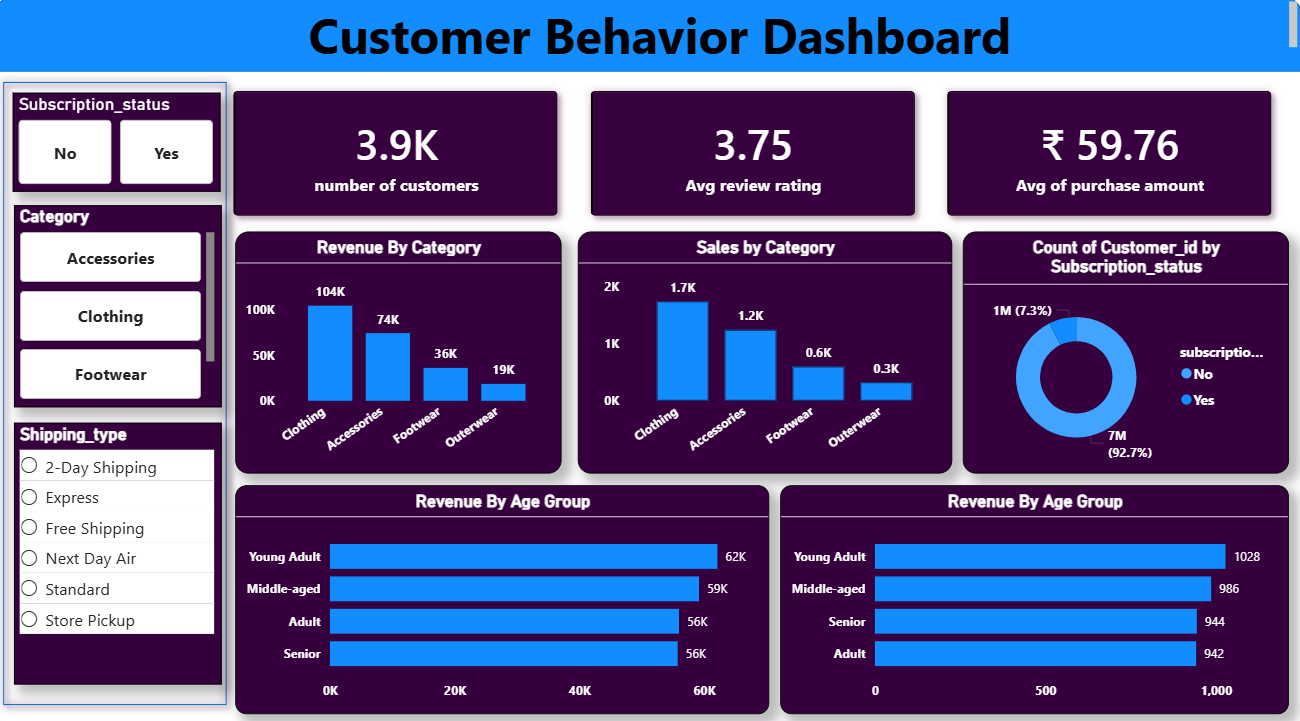

What the dashboard file says about the page in this screenshot:
{"tool":"powerbi","page":{"name":"Page 1","canvas":[1280,720],"ordinal":0},"visuals":[{"type":"cardVisual","fields":{"Data":["public customer.number of customers","public customer.Avg review rating","public customer.Avg of purchase amount"]},"box":[204.9,66.4,1074.9,180.3],"z":0},{"type":"shape","box":[0,2.9,1279.7,73.6],"z":1000},{"type":"textbox","box":[31.7,2.9,1248,63.5],"z":2000},{"type":"donutChart","title":"Count of Customer_id by Subscription_status","fields":{"Category":["public customer.subscription_status"],"Y":["Sum(public customer.customer_id)"]},"box":[947.9,232.3,318.9,236.6],"z":3000},{"type":"clusteredColumnChart","title":"Sales  by Category","fields":{"Category":["public customer.category"],"Y":["CountNonNull(public customer.customer_id)"]},"box":[571.3,232.3,366.5,236.6],"z":4000},{"type":"clusteredColumnChart","title":"Revenue By Category","fields":{"Y":["Sum(public customer.purchase_amount)"],"Category":["public customer.category"]},"box":[236.6,232.3,318.9,236.6],"z":5000},{"type":"shape","box":[0,76.5,236.6,627.6],"z":6000},{"type":"advancedSlicerVisual","fields":{"Values":["public customer.subscription_status"]},"box":[18.8,96.7,203.4,96.7],"z":7000},{"type":"advancedSlicerVisual","fields":{"Values":["public customer.category"]},"box":[19.6,206.5,202.9,197.6],"z":8000},{"type":"listSlicer","fields":{"Values":["public customer.shipping_type"]},"box":[19.6,420,202.9,256.3],"z":9000},{"type":"clusteredBarChart","title":"Revenue By Age Group","fields":{"Y":["Sum(public customer.purchase_amount)"],"Category":["public customer.age_group"]},"box":[236.6,480.4,522.3,223.6],"z":10000},{"type":"clusteredBarChart","title":"Revenue By Age Group","fields":{"Y":["CountNonNull(public customer.customer_id)"],"Category":["public customer.age_group"]},"box":[769,480.4,497.8,223.6],"z":11000}]}

Visuals, with their boxes in screenshot pixels (x1, y1, x2, y2), scaled from the page's 1280x720 canvas onto the 1300x721 screenshot:
cardVisual - public customer.number of customers x public customer.Avg review rating: (x1=208, y1=66, x2=1299, y2=247)
shape: (x1=0, y1=3, x2=1299, y2=77)
textbox: (x1=32, y1=3, x2=1299, y2=66)
"Count of Customer_id by Subscription_status" donutChart: (x1=963, y1=233, x2=1287, y2=470)
"Sales  by Category" clusteredColumnChart: (x1=580, y1=233, x2=952, y2=470)
"Revenue By Category" clusteredColumnChart: (x1=240, y1=233, x2=564, y2=470)
shape: (x1=0, y1=77, x2=240, y2=705)
advancedSlicerVisual - public customer.subscription_status: (x1=19, y1=97, x2=226, y2=194)
advancedSlicerVisual - public customer.category: (x1=20, y1=207, x2=226, y2=405)
listSlicer - public customer.shipping_type: (x1=20, y1=421, x2=226, y2=677)
"Revenue By Age Group" clusteredBarChart: (x1=240, y1=481, x2=771, y2=705)
"Revenue By Age Group" clusteredBarChart: (x1=781, y1=481, x2=1287, y2=705)
